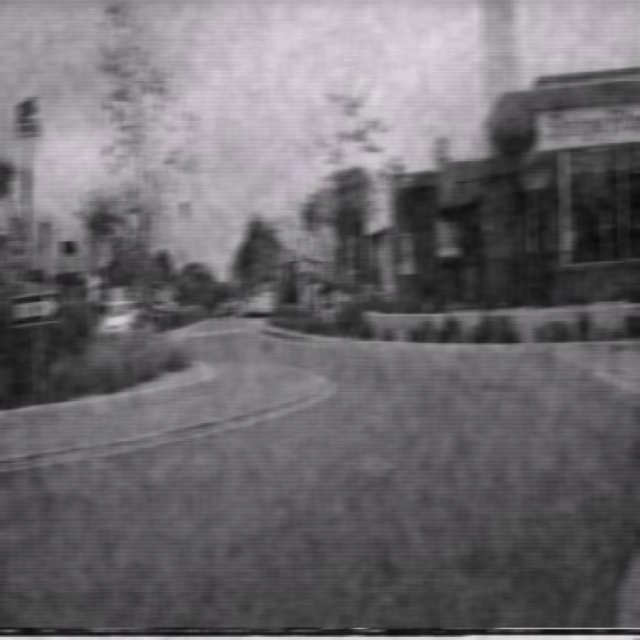pedestrianCrossing: (296, 228, 312, 259)
